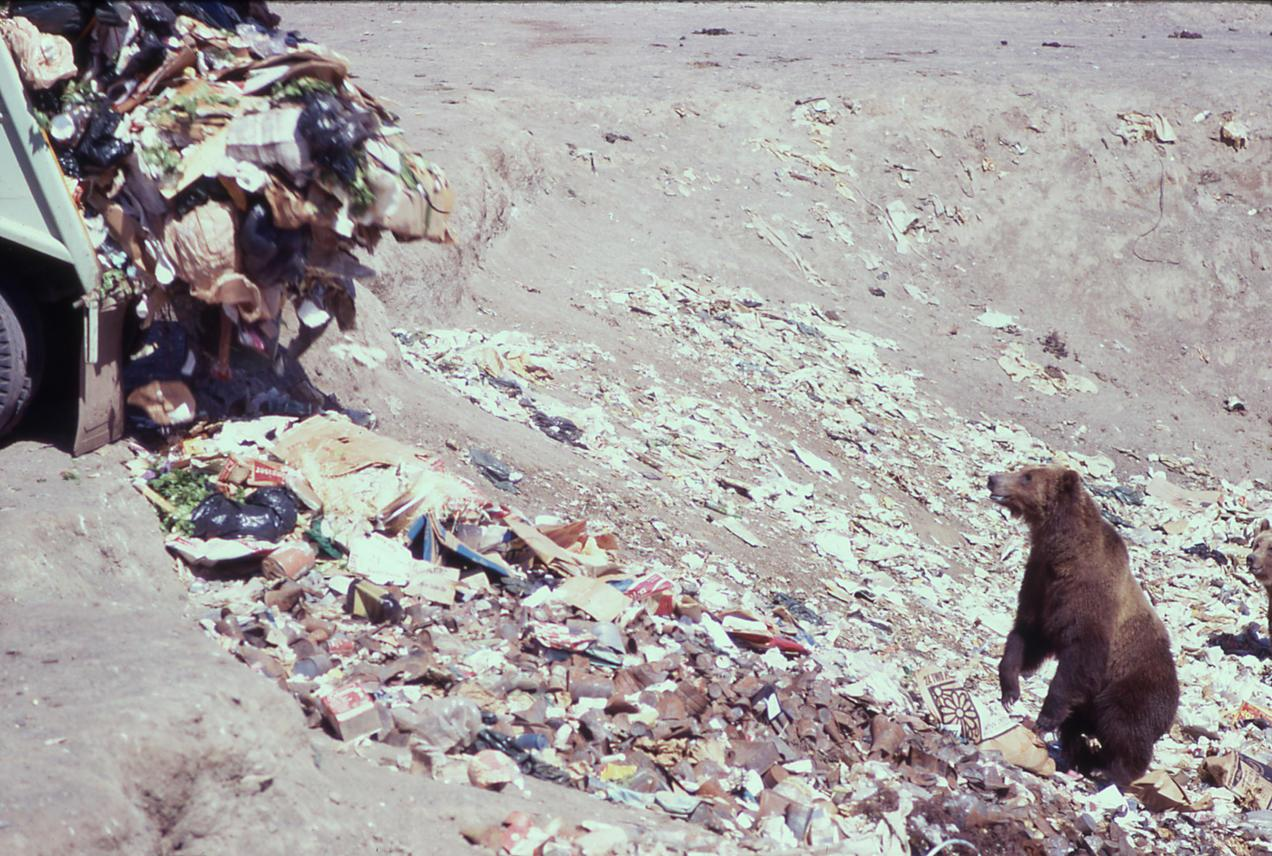garbage: (41, 0, 456, 451), (543, 554, 999, 856), (1155, 458, 1272, 856)
